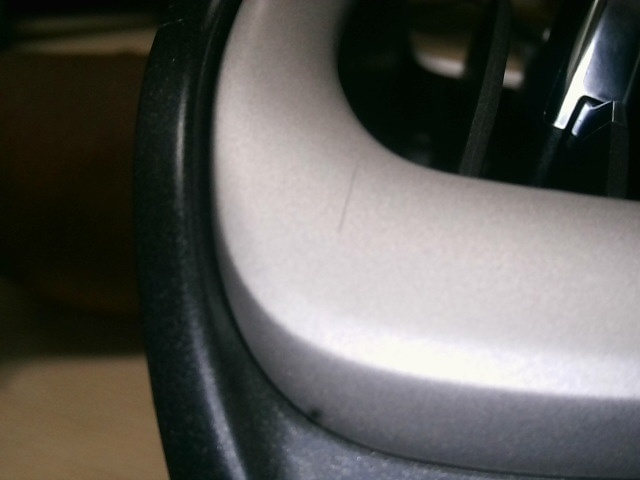NG: (337, 162, 364, 230), (154, 13, 189, 62)
